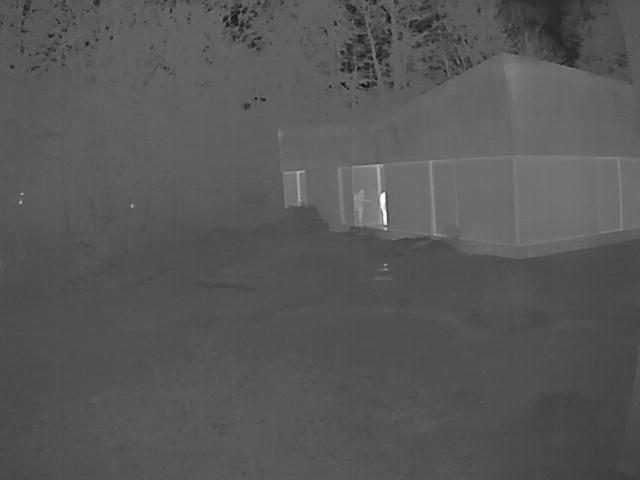person: (354, 189, 372, 224)
